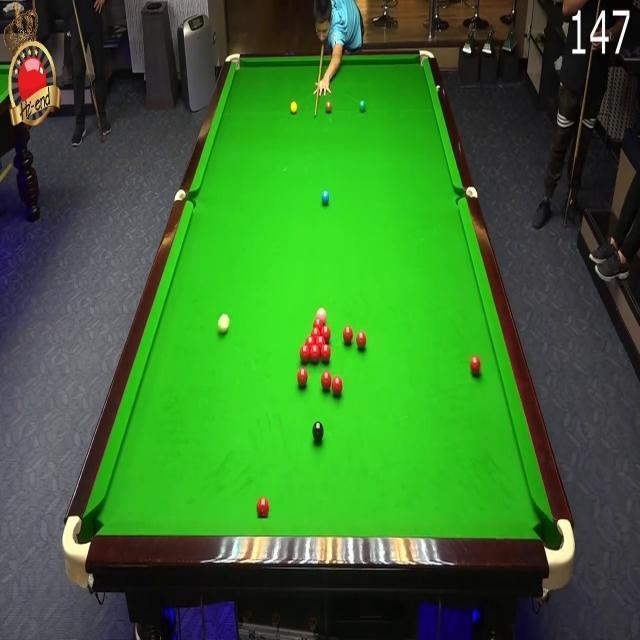Ball: (256, 497, 270, 520), (332, 376, 344, 398), (312, 419, 324, 441), (217, 314, 229, 334), (321, 372, 332, 392), (356, 331, 368, 349), (343, 325, 353, 345), (297, 369, 308, 387), (299, 345, 310, 362), (321, 344, 331, 362), (310, 345, 320, 362), (316, 307, 326, 324), (305, 335, 316, 350), (316, 336, 326, 351), (321, 324, 331, 339), (313, 317, 323, 332), (470, 356, 478, 373), (311, 327, 321, 340), (322, 190, 330, 206), (291, 101, 298, 114), (359, 102, 367, 113), (326, 100, 332, 113)
